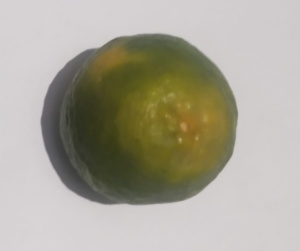BAD: (61, 32, 240, 203)
